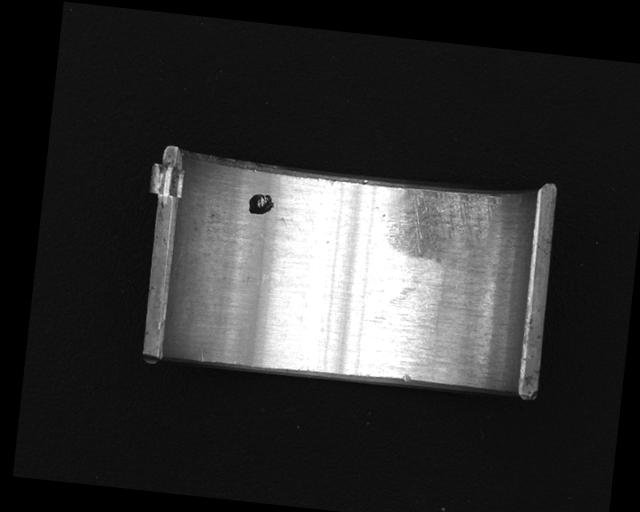blot: (246, 191, 275, 216)
bruise: (401, 372, 413, 383)
scratch: (374, 183, 505, 270)
